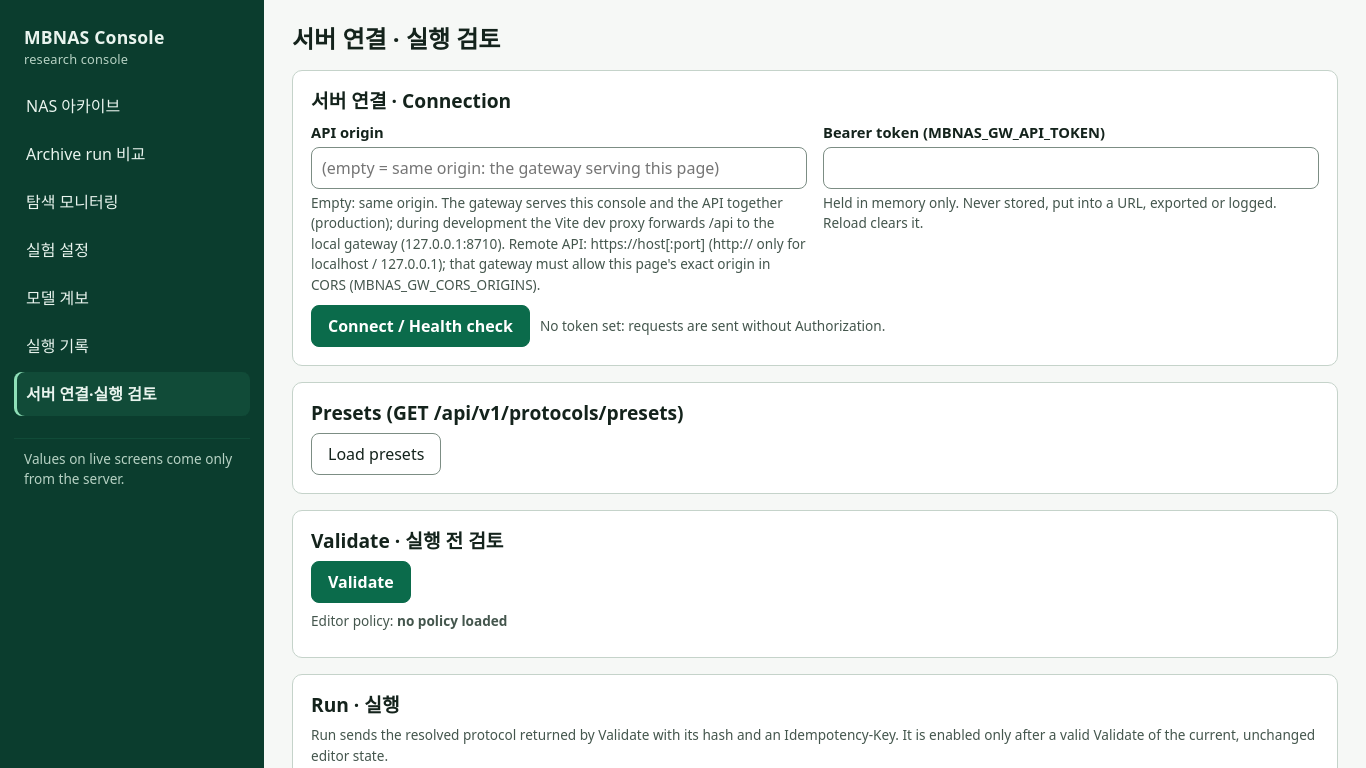
Test: Server screen flow › rejects a plain-http remote origin before any request
Type "http://nas.example.org" into the field with test id "origin-input". click: point(559, 168)
box: [311,147,807,189]
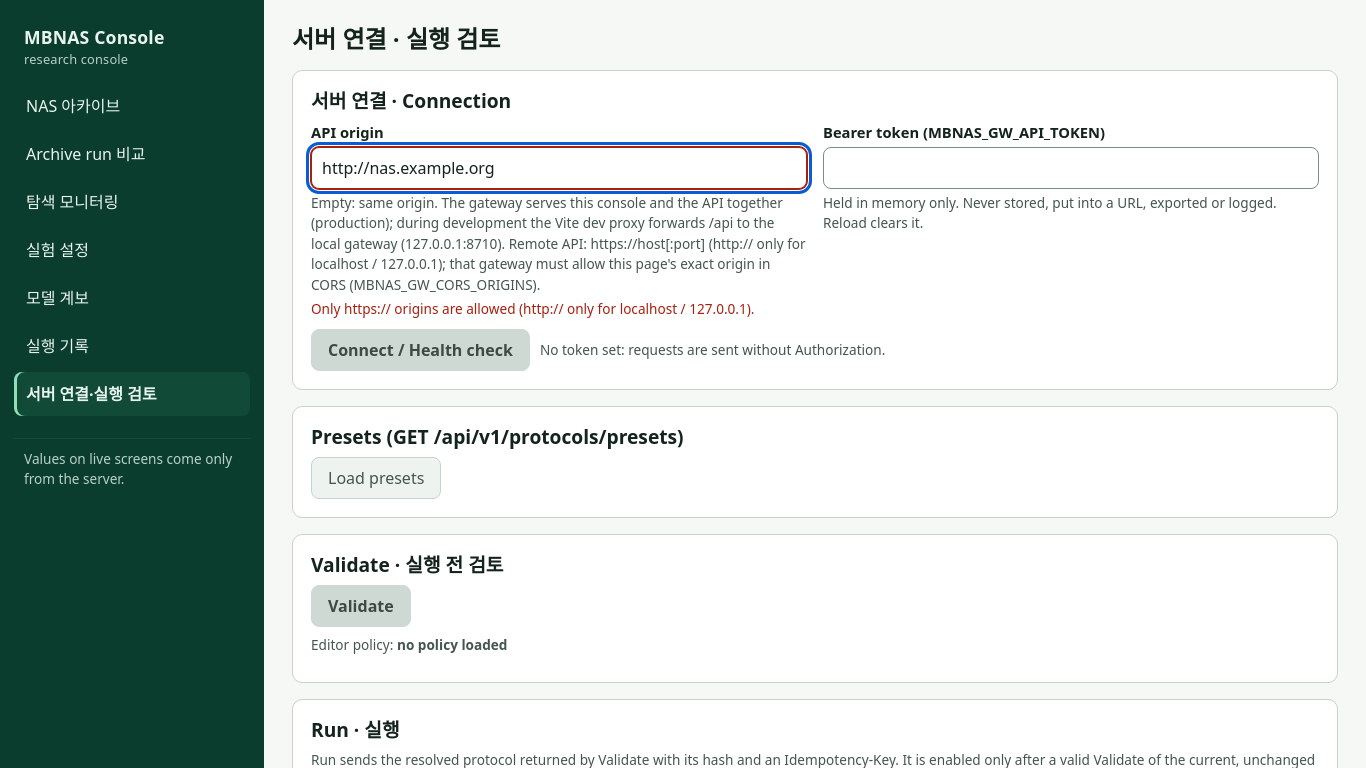
Expected: the text "Only https:// origins are allowed (http:// only for localhost / 127.0.0.1)." is shown, [311,299,807,319]
Expected: the button with test id "connect-btn" is disabled, [311,329,530,371]
